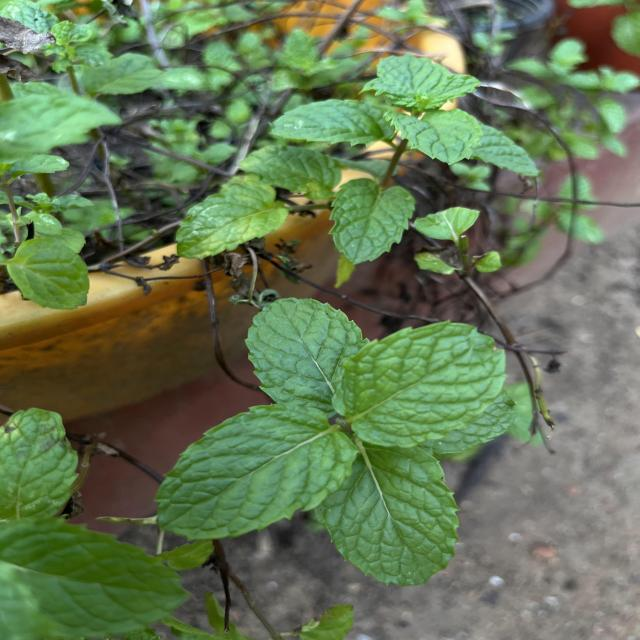Mentha spicata: (153, 400, 361, 543), (328, 318, 506, 450), (313, 447, 462, 588), (242, 295, 369, 401), (328, 175, 417, 267)
